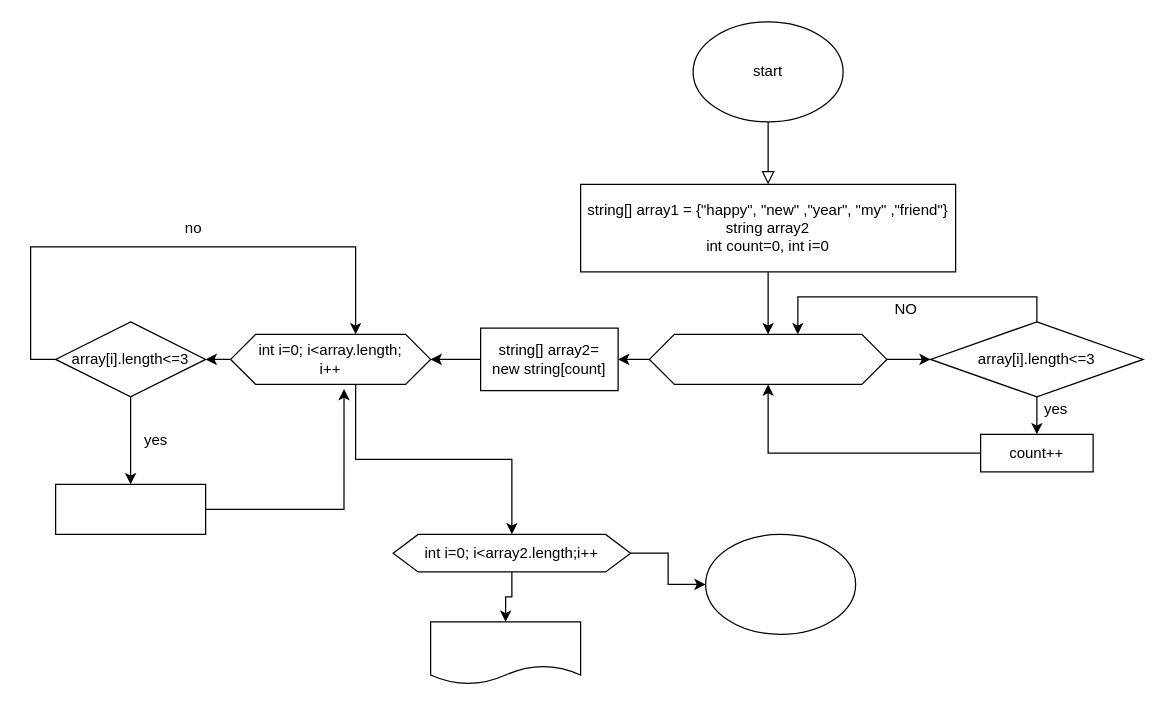
Some shapes in this 1165 by 706 pixel diagram are drawn without their labels. The centre of each missing label's shape, as x and y in pixels:
"array2[j]=array[i]; j++" goes at pixel 130 508.
"end" goes at pixel 780 583.
"int i = 0; i<array1.length;i++" goes at pixel 767 358.
"print(array2[])" goes at pixel 505 652.
